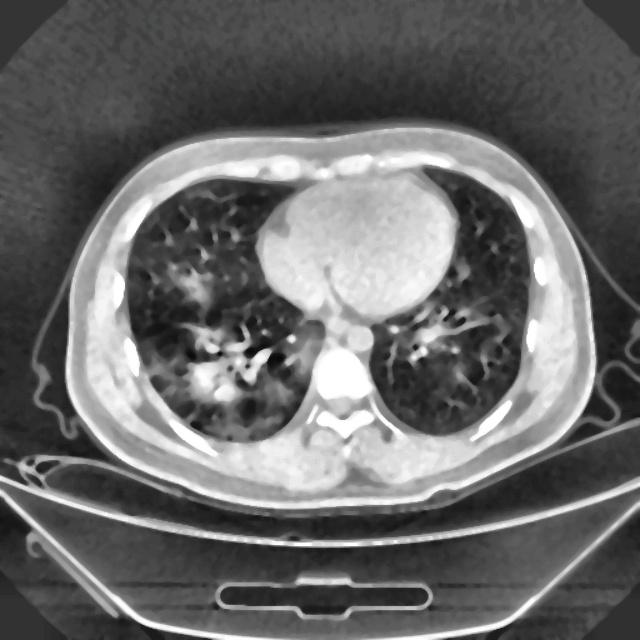covid: (63, 121, 597, 515)
